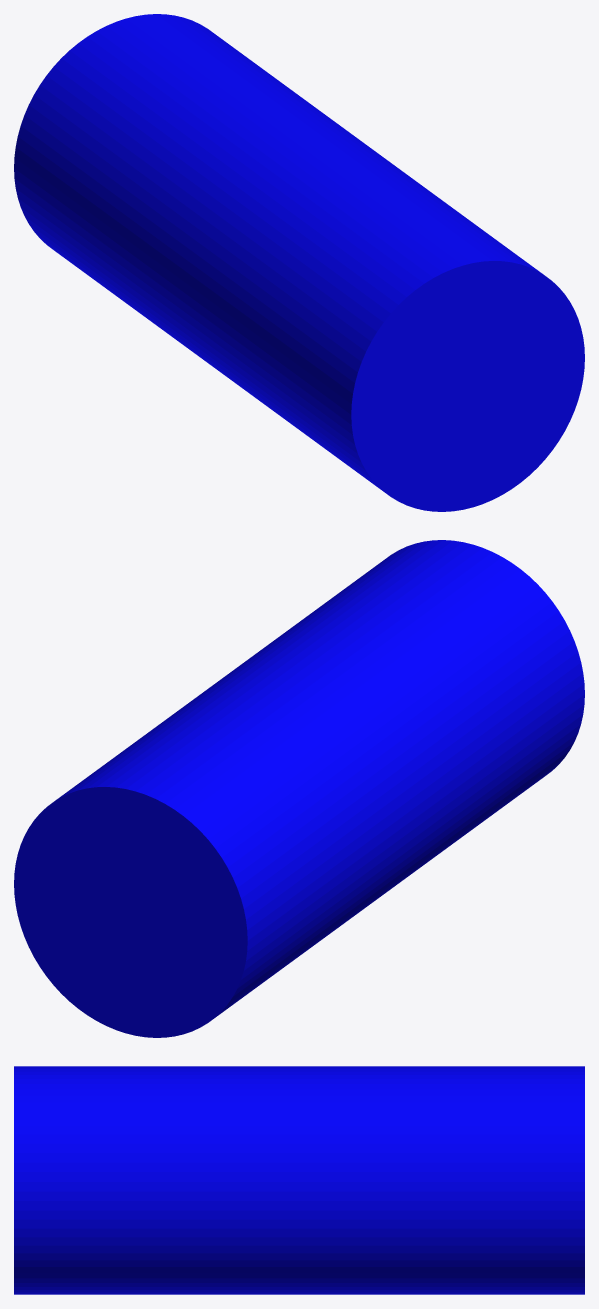
File: BlueBuoyColor.dae
3 views of the same model, one above another, from view 1: azimuth 30°, elevation 25°; view 2: azimuth 150°, elevation 25°; view 3: azimuth 270°, elevation 25° (orthographic). The views are drawn at different scales.
Parts seen in each view (by area): view 1: YELLOW-BUOY; view 2: YELLOW-BUOY; view 3: YELLOW-BUOY.
Part boxes in pixels (x1=…): YELLOW-BUOY: x1=14, y1=14, x2=584, y2=511; YELLOW-BUOY: x1=14, y1=540, x2=584, y2=1037; YELLOW-BUOY: x1=14, y1=1066, x2=584, y2=1294.
Size of the model in its own units: 10.16 by 25.4 by 10.15.
